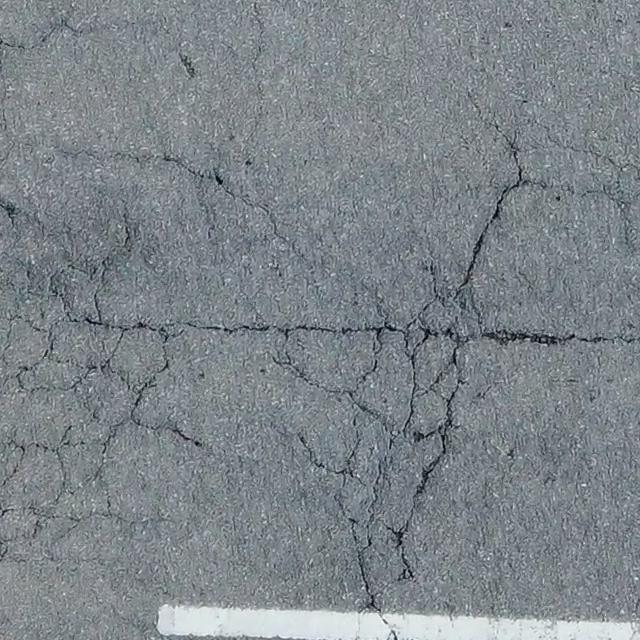GRIETA: (164, 156, 293, 248), (466, 91, 525, 273), (485, 329, 639, 347), (0, 20, 79, 50), (251, 0, 265, 114), (185, 319, 274, 336), (146, 424, 203, 448), (179, 52, 195, 77)
PIEL DE COCODRILO: (265, 256, 487, 639), (0, 191, 188, 580), (573, 149, 639, 261)
